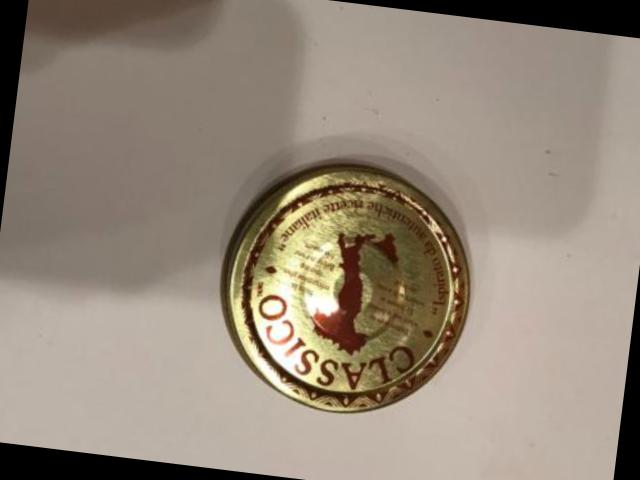metal: (222, 167, 469, 414)
